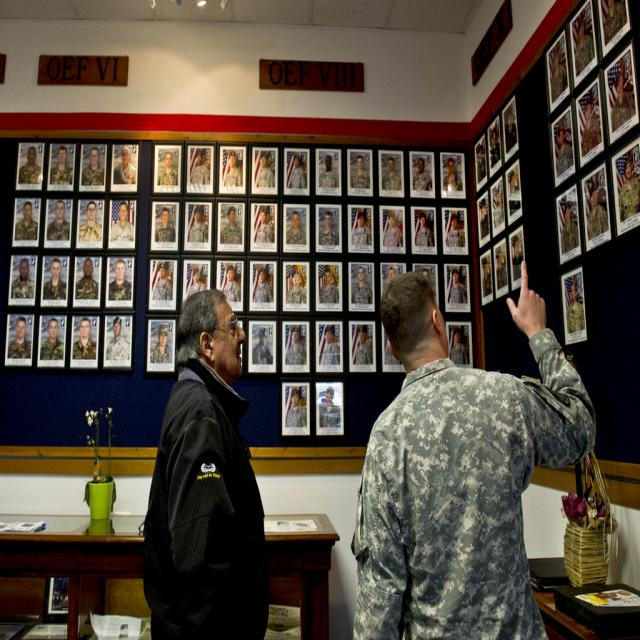desk: (0, 513, 339, 639)
person: (351, 262, 597, 634), (141, 289, 270, 637)
